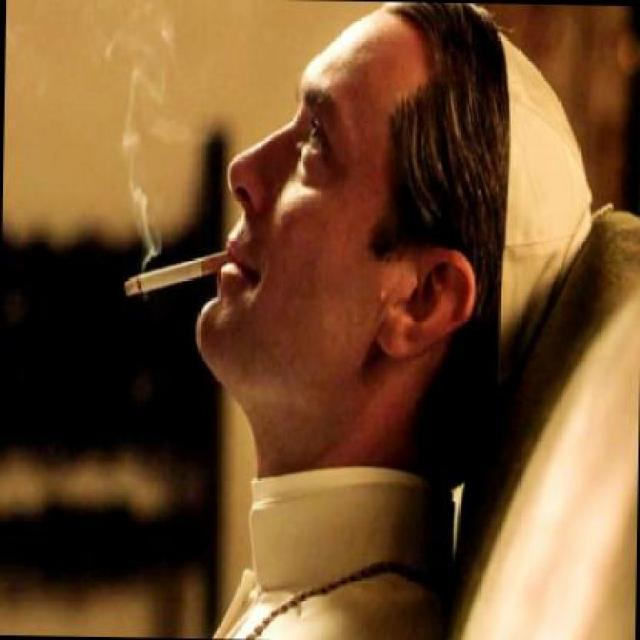smoke: (121, 242, 232, 301)
